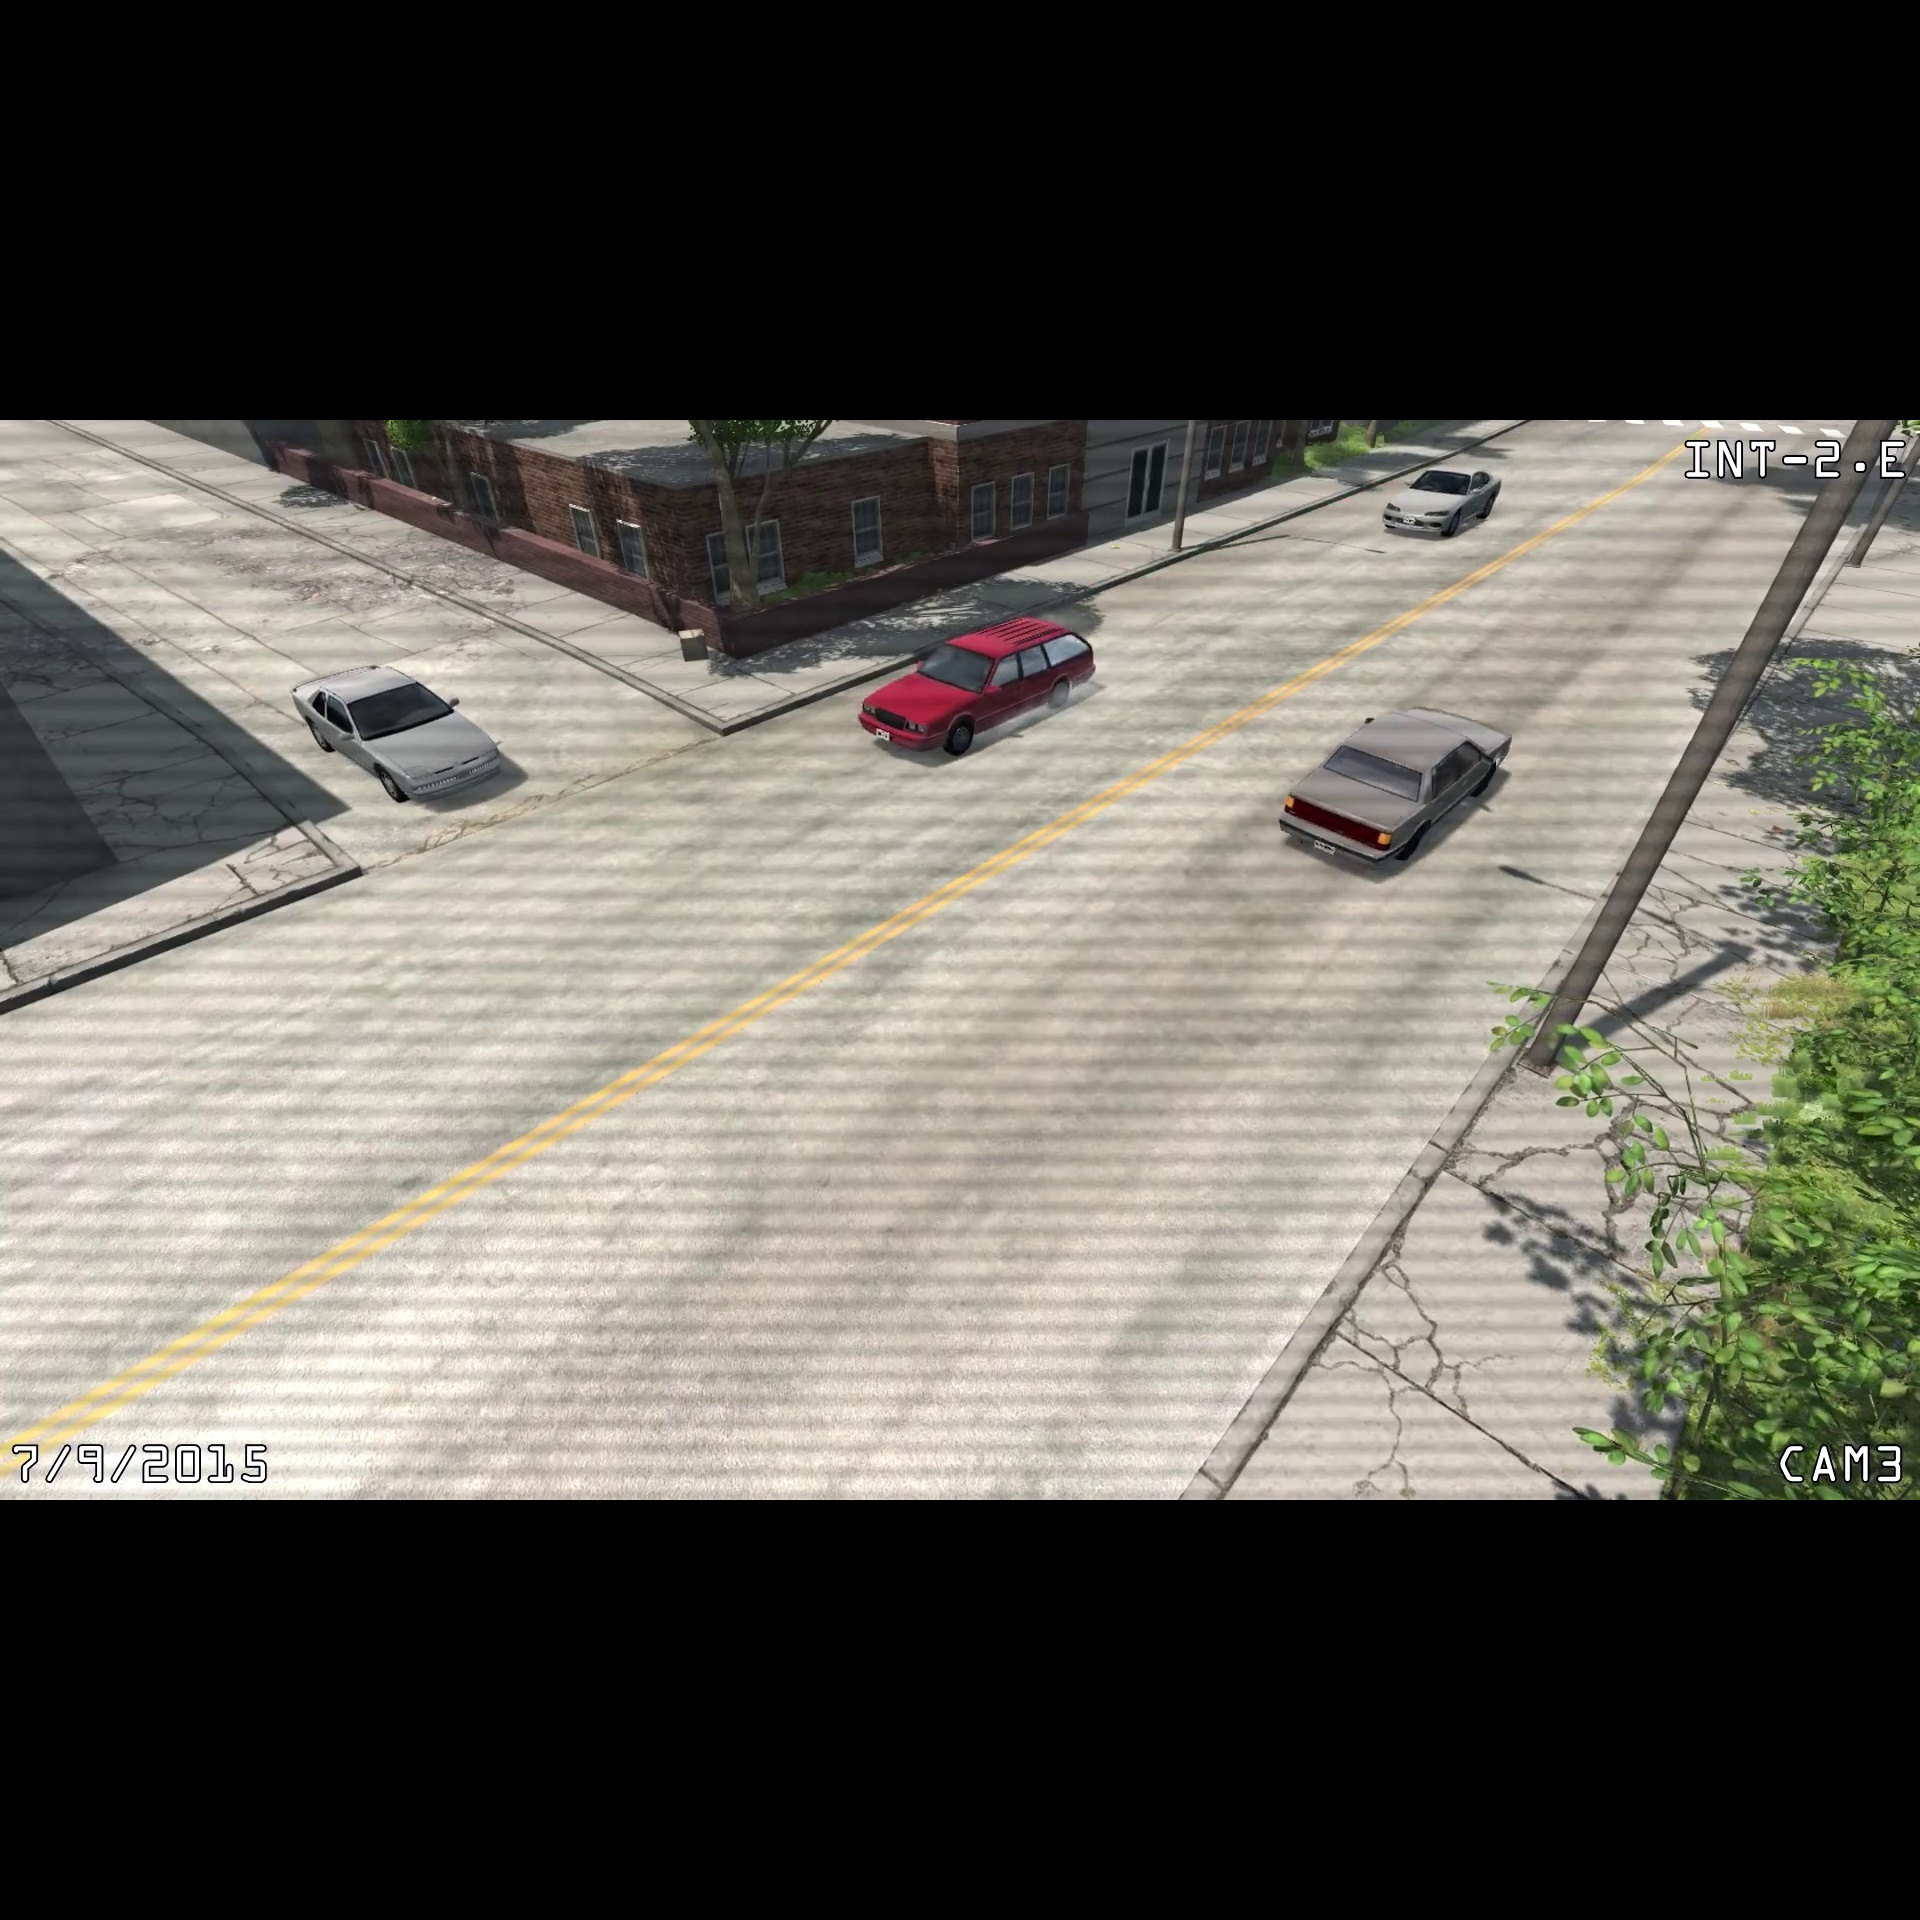vehicle: (1275, 702, 1516, 876), (853, 617, 1109, 775), (285, 649, 512, 812), (1378, 462, 1507, 542)
